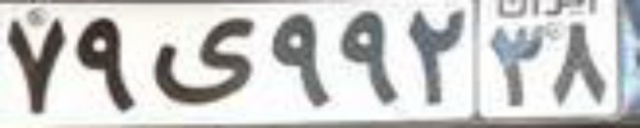2: (408, 9, 465, 103)
3: (490, 23, 544, 106)
7: (7, 18, 67, 114)
8: (554, 23, 608, 108)
9: (75, 18, 136, 111), (342, 11, 399, 102), (272, 14, 328, 106)
ye: (155, 17, 252, 103)
